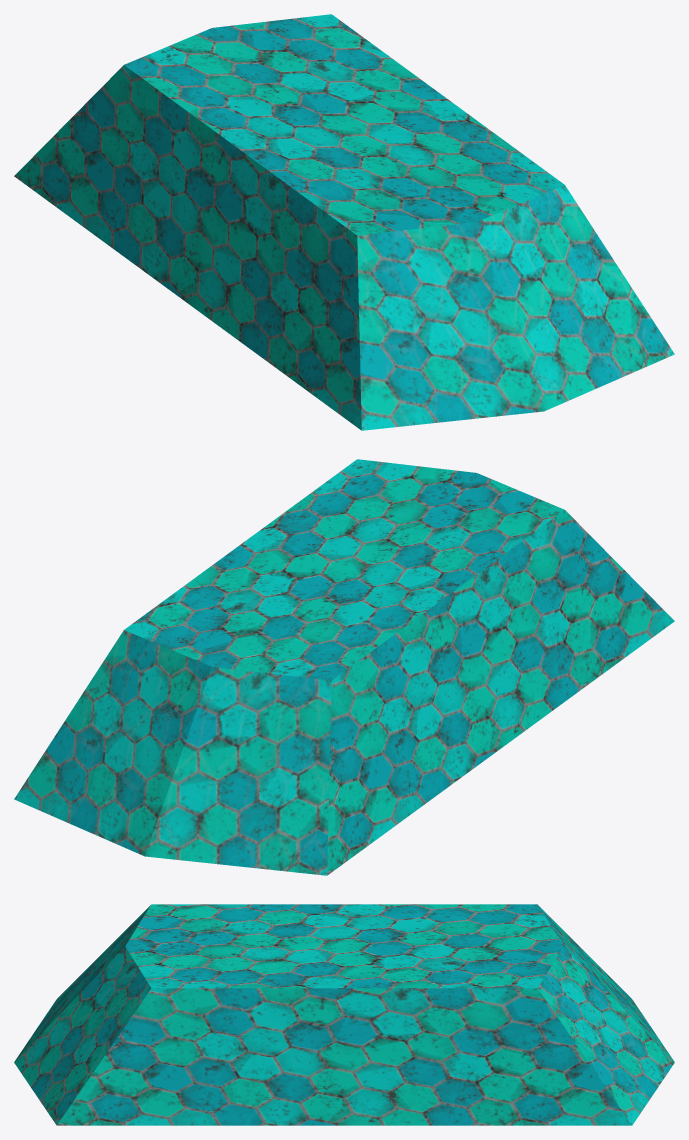
The model's file is Barra_Placadraco.fbx.
The picture shows the model from 3 angles, top to bottom: view 1: azimuth 30°, elevation 25°; view 2: azimuth 150°, elevation 25°; view 3: azimuth 270°, elevation 25°; orthographic projection. The views are drawn at different scales.
Parts seen in each view (by area): view 1: Barra de Metal; view 2: Barra de Metal; view 3: Barra de Metal.
Part boxes in pixels (x1,y1,x2,y2): Barra de Metal: (14,14,674,430); Barra de Metal: (14,459,674,875); Barra de Metal: (14,904,674,1125).
Bounding box in the file's own units: 21.32 × 9.13 × 47.09.
Materials: 1 (1 with a texture image).
